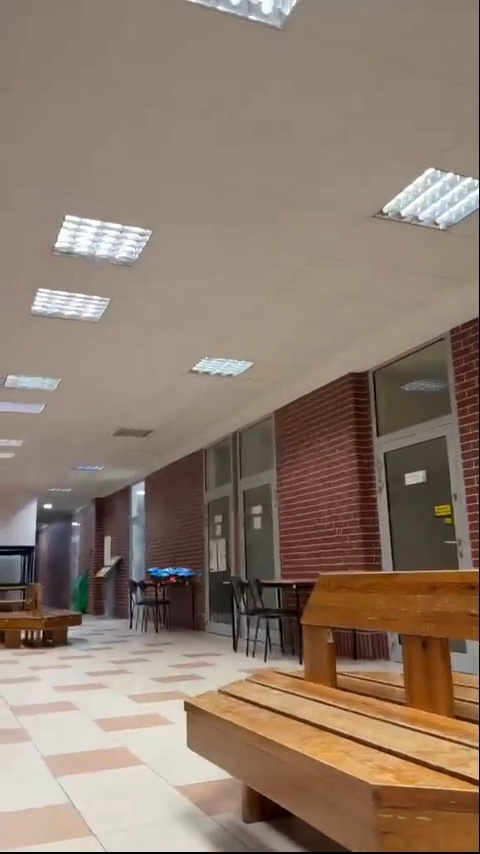drone: (147, 564, 200, 585)
